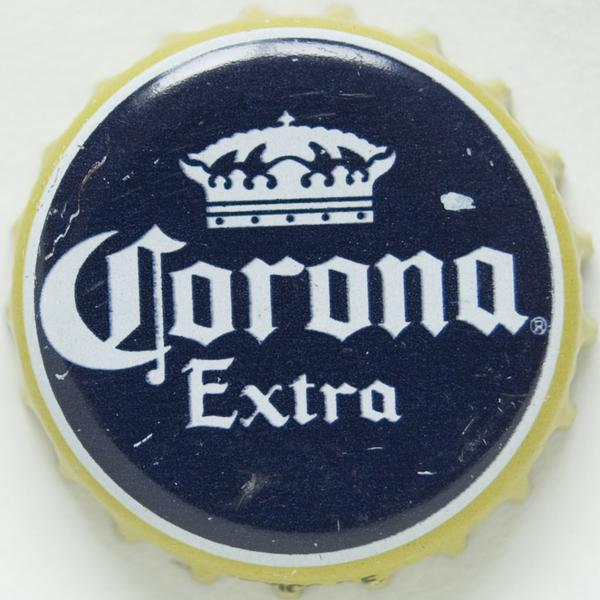corona: (7, 4, 600, 600)
